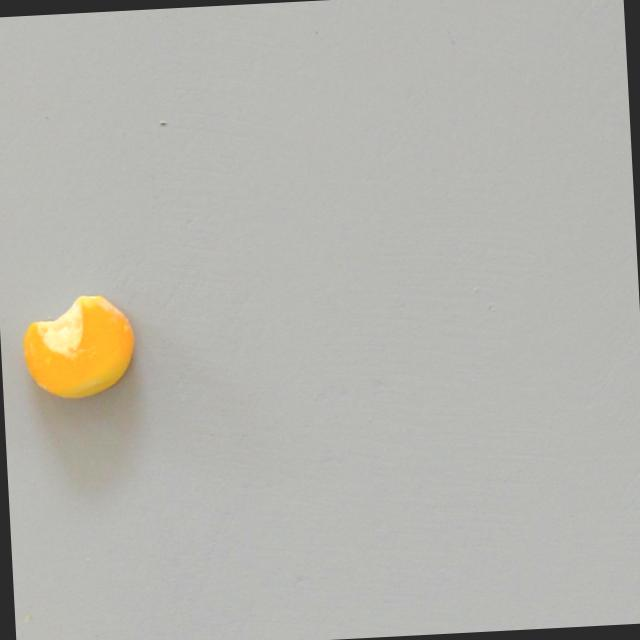pelicula: (17, 287, 137, 407)
